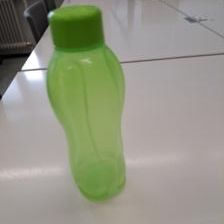bottle: (44, 5, 127, 200)
